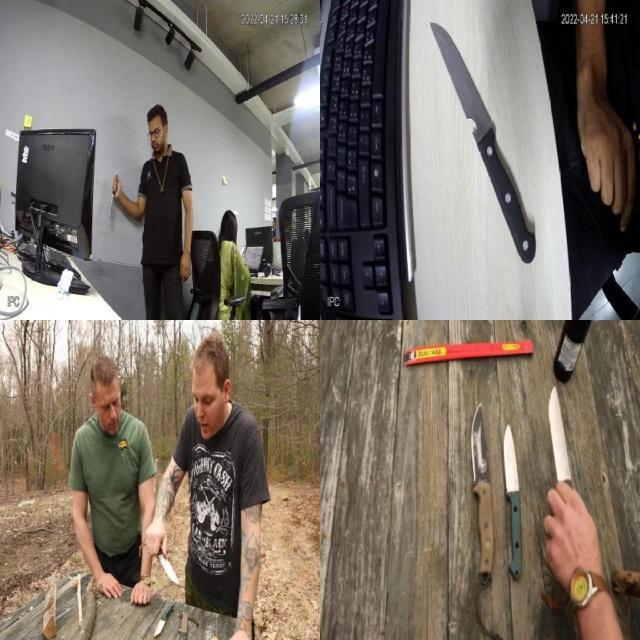-: (423, 16, 540, 273), (545, 379, 591, 572), (464, 397, 500, 587), (494, 415, 529, 580), (151, 534, 186, 593), (106, 166, 126, 241), (143, 604, 181, 639)
